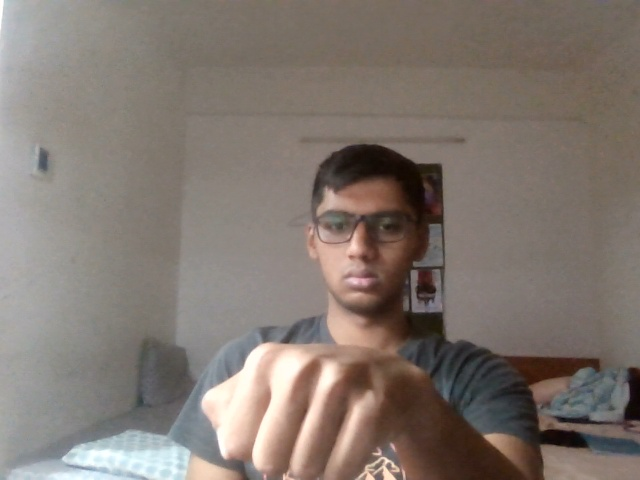yes: (178, 334, 424, 480)
